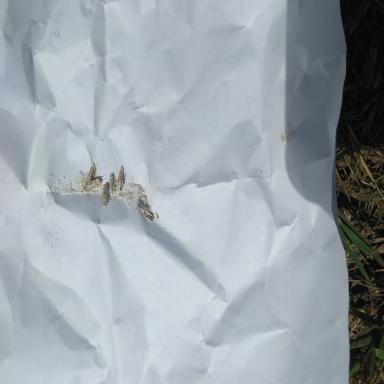pbw: (82, 174, 106, 192), (135, 200, 154, 221), (100, 181, 112, 206), (84, 162, 97, 184), (116, 166, 125, 190), (109, 171, 116, 195)
